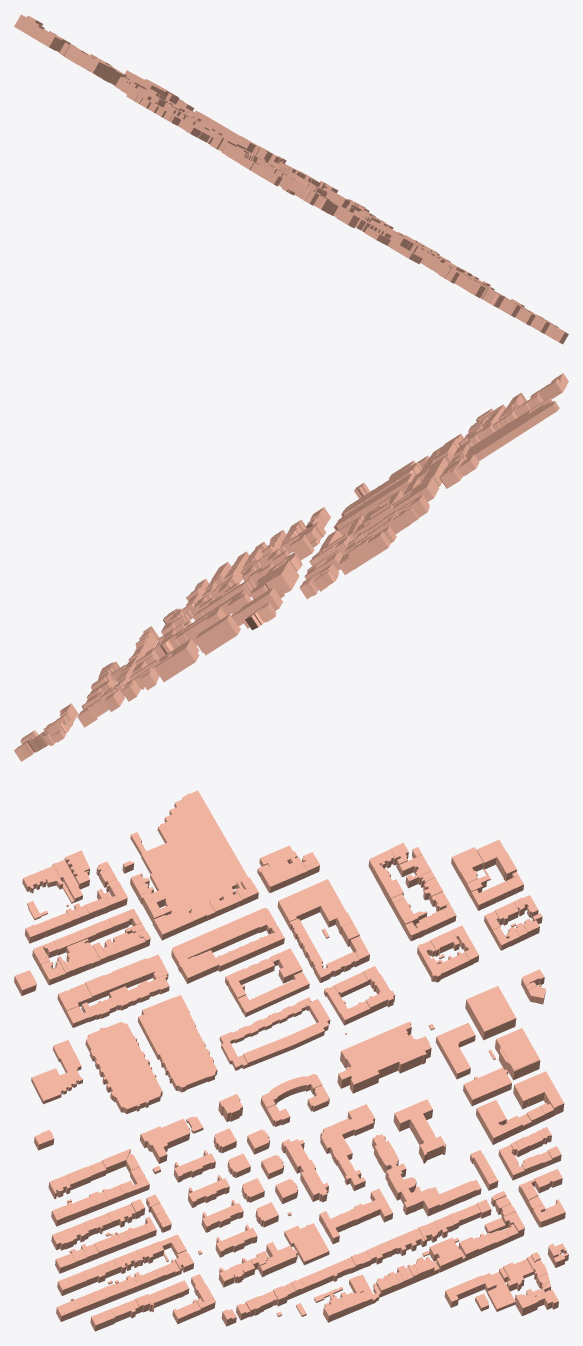
The picture shows the model from 3 angles, top to bottom: view 1: azimuth 30°, elevation 25°; view 2: azimuth 150°, elevation 25°; view 3: azimuth 270°, elevation 25°; orthographic projection. The views are drawn at different scales.
Size of the model in its own units: 578 by 438 by 650.
